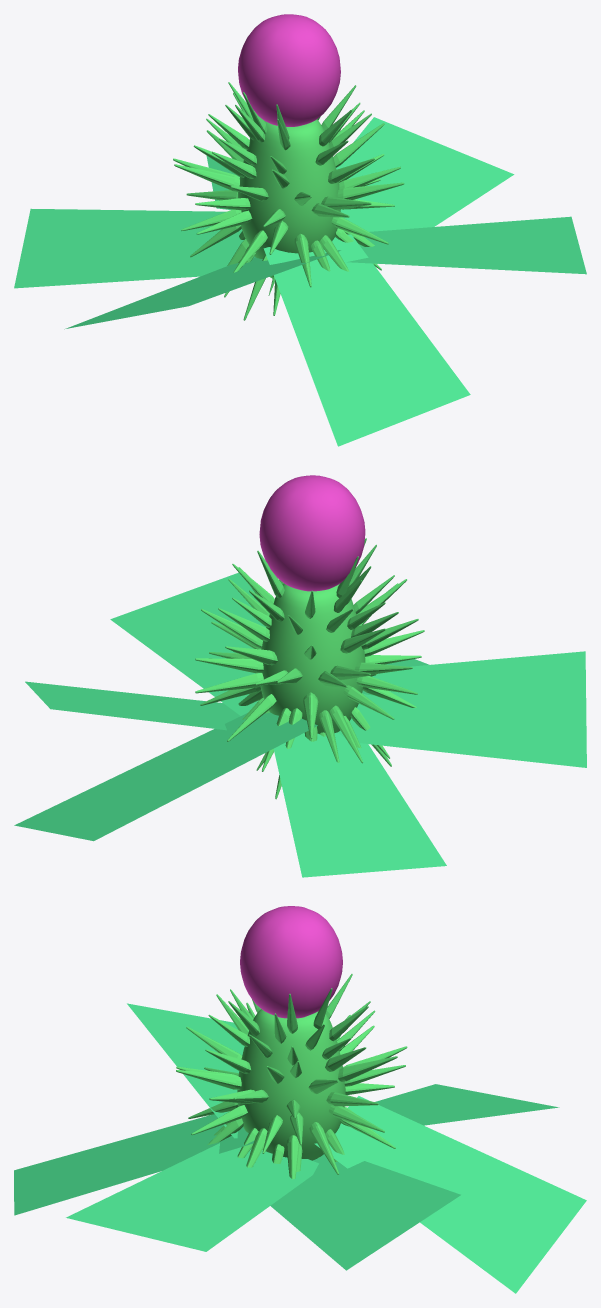
File: ThistleFlower.fbx
3 views of the same model, one above another, from view 1: azimuth 30°, elevation 25°; view 2: azimuth 150°, elevation 25°; view 3: azimuth 270°, elevation 25° (orthographic). The views are drawn at different scales.
Visible parts, largest first — view 1: Plane.001, Plane.003, Plane.005, Plane, Sphere.001, Sphere, Plane.002, Sphere|Cone|Dupli|83, Sphere|Cone|Dupli|9; view 2: Plane.002, Plane.003, Plane.004, Sphere.001, Plane, Sphere, Plane.005, Sphere|Cone|Dupli|72, Sphere|Cone|Dupli|74, Sphere|Cone|Dupli|58; view 3: Plane.004, Plane, Plane.005, Sphere.001, Plane.001, Sphere, Plane.002, Plane.003, Sphere|Cone|Dupli|17, Sphere|Cone|Dupli|67, Sphere|Cone|Dupli|74.
Part boxes in pixels (x1,y1,x2,y2): Plane.001: (263,234,470,446); Plane.003: (14,208,254,288); Plane.005: (336,117,514,263); Plane: (347,216,586,274); Sphere.001: (238,14,340,126); Sphere: (238,119,340,278); Plane.002: (64,250,340,329); Sphere|Cone|Dupli|83: (174,164,239,191); Sphere|Cone|Dupli|9: (337,182,404,199); Plane.002: (338,651,586,767); Plane.003: (273,732,446,877); Plane.004: (14,712,317,841); Sphere.001: (259,475,365,591); Plane: (110,572,265,715); Sphere: (260,583,365,733); Plane.005: (25,681,240,730); Sphere|Cone|Dupli|72: (195,658,263,673); Sphere|Cone|Dupli|74: (195,673,263,693); Sphere|Cone|Dupli|58: (201,609,262,648); Plane.004: (314,1096,586,1293); Plane: (66,1143,318,1251); Plane.005: (270,1154,460,1270); Sphere.001: (240,906,342,1018); Plane.001: (14,1114,254,1215); Sphere: (237,1009,345,1160); Plane.002: (127,1003,244,1138); Plane.003: (375,1084,559,1125); Sphere|Cone|Dupli|17: (176,1070,241,1089); Sphere|Cone|Dupli|67: (338,1056,397,1081); Sphere|Cone|Dupli|74: (329,1105,384,1132).
Bounding box in the file's own units: 329 × 192 × 328.
